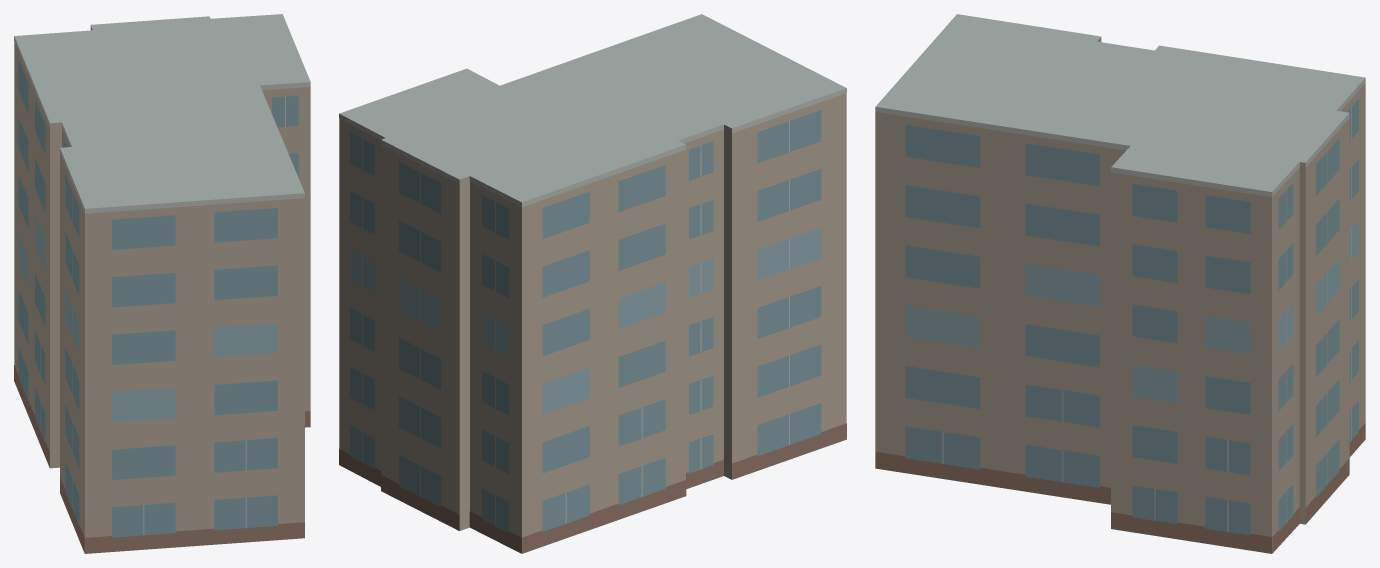
File: survey-upis-32902711.glb
3 views of the same model, side by side, from view 1: azimuth 30°, elevation 25°; view 2: azimuth 150°, elevation 25°; view 3: azimuth 270°, elevation 25° (orthographic). The views are drawn at different scales.
Parts seen in each view (by area): view 1: survey-upis-32902711.tmp; view 2: survey-upis-32902711.tmp; view 3: survey-upis-32902711.tmp.
Boxes of the visible parts, bbox=[...] form: survey-upis-32902711.tmp: bbox=[14, 14, 310, 553]; survey-upis-32902711.tmp: bbox=[339, 14, 846, 553]; survey-upis-32902711.tmp: bbox=[875, 14, 1365, 553].
Size of the model in its own units: 18.17 by 17.2 by 21.13.
